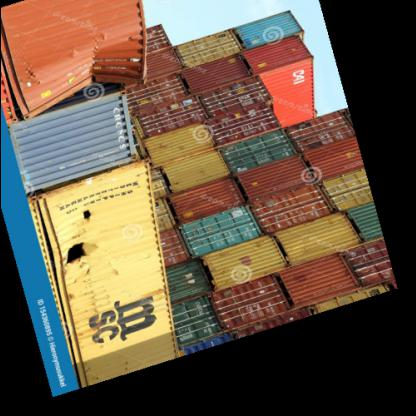Damage: (78, 185, 120, 229), (63, 226, 96, 269)
